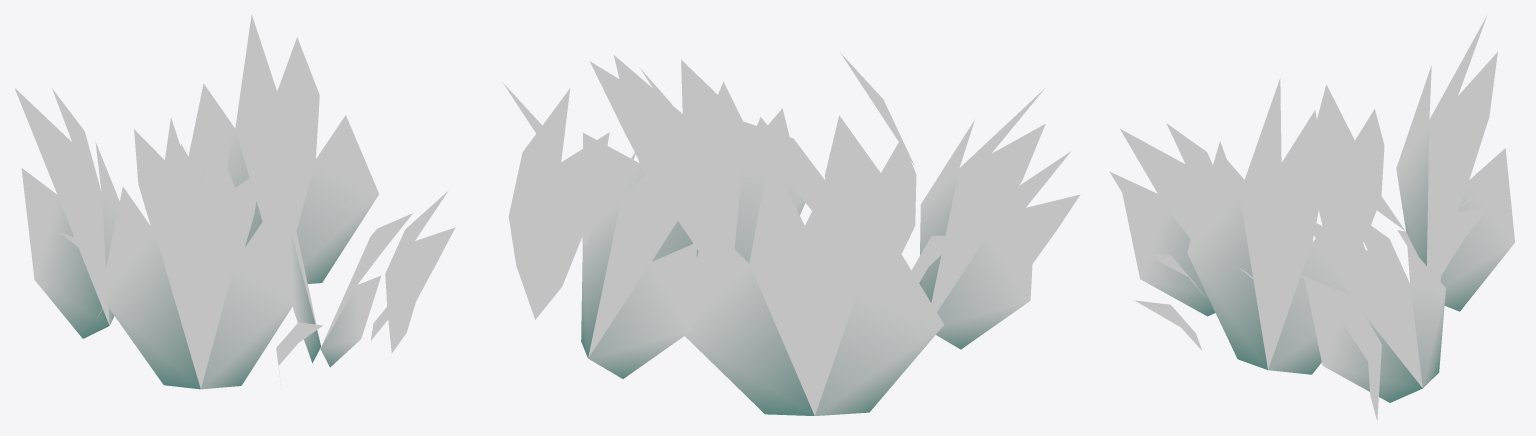
File: tall-grass.glb
The picture shows the model from 3 angles, left to right: view 1: azimuth 30°, elevation 25°; view 2: azimuth 150°, elevation 25°; view 3: azimuth 270°, elevation 25°; orthographic projection. The views are drawn at different scales.
Visible parts, largest first — view 1: tall-grass; view 2: tall-grass; view 3: tall-grass.
Part boxes in pixels (left/top/right/bottom): tall-grass: left=14, top=15, right=455, bottom=389; tall-grass: left=503, top=53, right=1080, bottom=415; tall-grass: left=1110, top=15, right=1514, bottom=420.
Size of the model in its own units: 1.2 by 0.7792 by 1.13.
